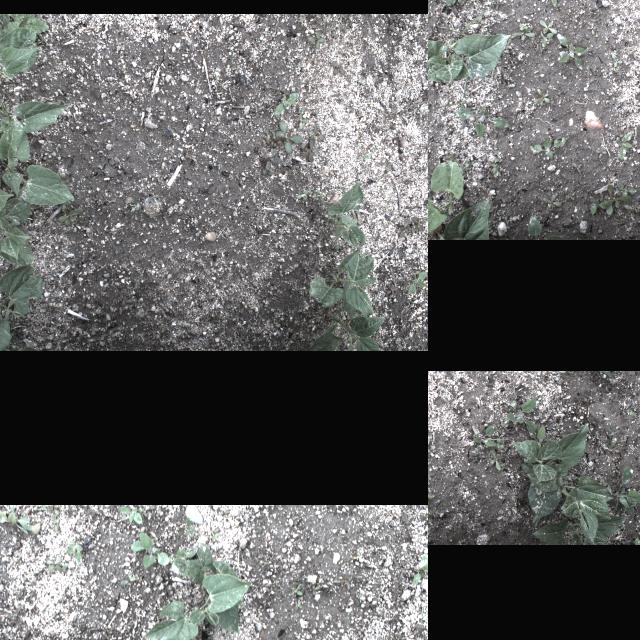crop: (0, 121, 77, 266), (144, 543, 254, 640), (512, 423, 588, 523), (522, 464, 614, 544), (306, 250, 376, 316), (428, 33, 511, 82), (0, 14, 49, 89), (0, 265, 43, 349), (301, 315, 387, 349), (533, 514, 629, 544), (326, 182, 366, 248), (428, 160, 463, 235), (0, 94, 70, 131), (436, 199, 490, 239)
weed: (261, 118, 305, 156), (606, 465, 640, 513), (456, 109, 509, 138), (131, 530, 169, 568), (447, 8, 489, 36), (558, 32, 588, 70), (0, 504, 36, 534), (507, 397, 537, 433), (301, 124, 327, 162), (270, 88, 302, 116), (605, 184, 633, 216), (397, 85, 428, 113), (528, 215, 564, 239), (303, 25, 333, 53), (529, 424, 557, 454), (256, 148, 286, 175), (530, 136, 566, 158), (472, 424, 500, 452), (399, 215, 428, 241), (406, 268, 428, 297), (56, 205, 85, 225), (430, 100, 466, 116), (328, 56, 354, 76), (295, 108, 315, 134), (64, 538, 84, 564), (297, 185, 327, 202), (166, 548, 196, 564), (412, 554, 428, 584), (118, 506, 142, 522), (600, 437, 618, 455), (46, 556, 66, 572), (620, 132, 632, 158), (383, 279, 399, 297), (618, 183, 636, 199), (538, 18, 556, 34), (514, 26, 534, 40), (590, 200, 610, 214), (490, 449, 502, 471), (126, 199, 142, 215), (532, 90, 550, 104), (540, 30, 554, 48), (120, 572, 138, 586), (186, 515, 197, 537), (542, 196, 562, 208), (488, 156, 499, 176), (463, 104, 489, 112), (270, 39, 284, 53), (472, 15, 486, 29), (333, 578, 351, 588), (569, 161, 583, 173), (594, 146, 608, 158), (611, 52, 623, 66), (624, 204, 640, 214), (50, 514, 60, 530), (445, 152, 457, 164), (290, 583, 302, 595), (368, 40, 378, 54), (46, 504, 60, 514), (442, 397, 456, 407), (362, 150, 373, 162), (308, 584, 320, 594), (622, 408, 636, 416), (428, 509, 439, 519), (492, 0, 504, 9), (444, 0, 461, 6), (460, 162, 470, 172), (608, 426, 618, 436), (428, 488, 434, 504), (463, 74, 467, 96), (294, 598, 302, 608), (496, 438, 504, 448), (590, 22, 596, 34), (518, 24, 528, 31), (565, 194, 575, 200), (210, 533, 218, 539), (550, 0, 559, 5), (459, 0, 468, 5), (634, 538, 640, 544), (599, 192, 603, 200), (0, 603, 4, 611), (600, 69, 604, 75), (491, 2, 494, 6), (295, 638, 301, 640), (549, 136, 551, 140)
